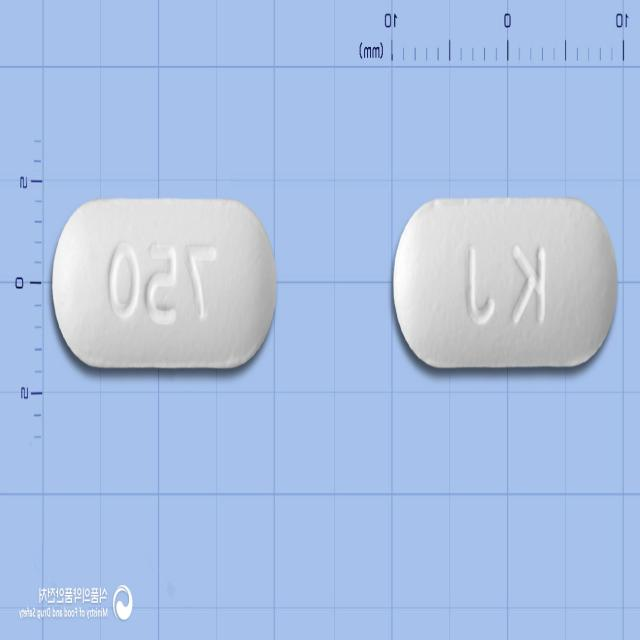Clabicks: (52, 196, 278, 370), (393, 196, 618, 368)
